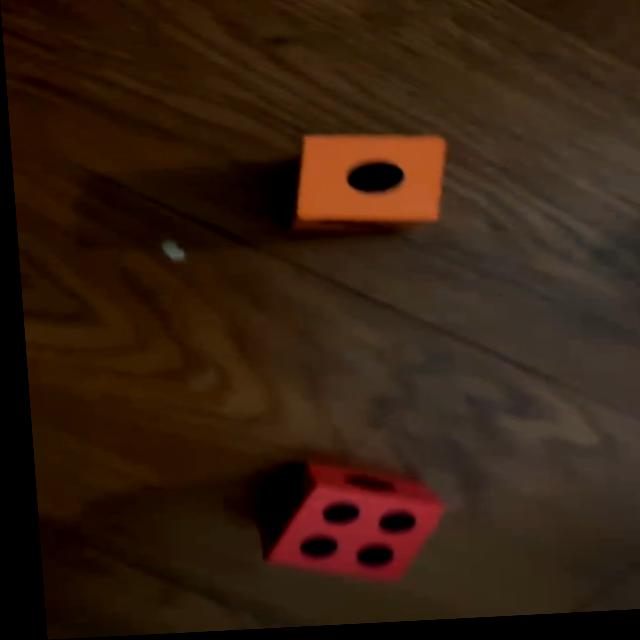cube: (247, 459, 440, 598)
